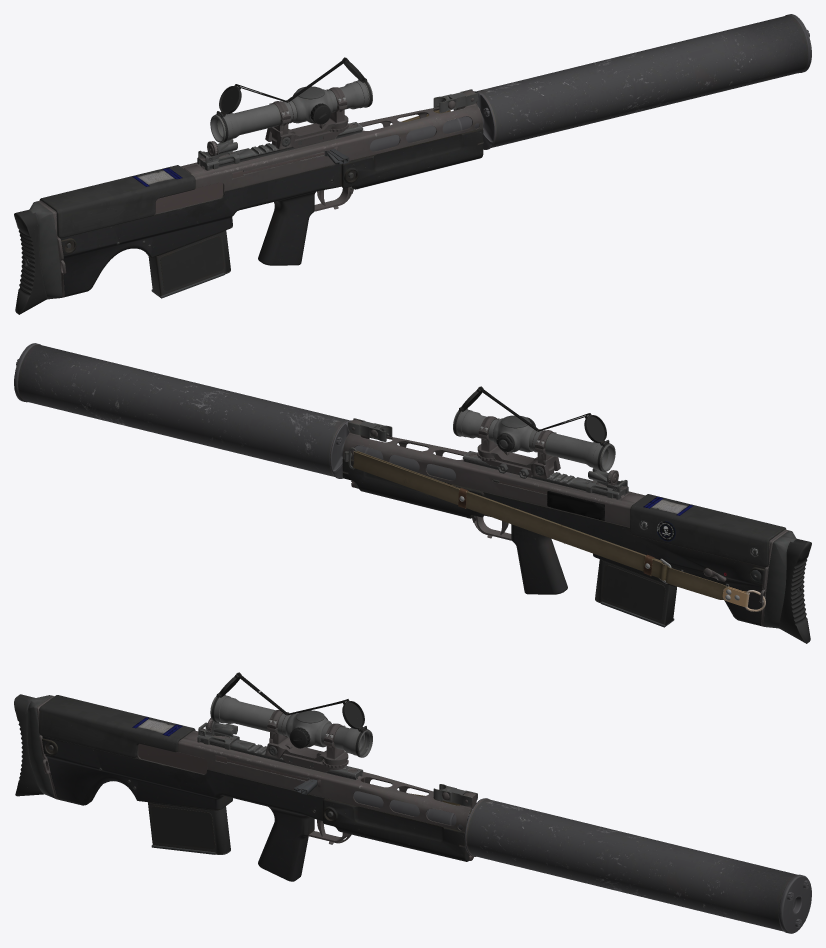
File: vssk.glb
3 renders of one model, top to bottom at view 1: azimuth 30°, elevation 25°; view 2: azimuth 150°, elevation 25°; view 3: azimuth 330°, elevation 25°, orthographic.
Parts seen in each view (by area): view 1: Object_3, Object_2, Object_11, Object_13, Object_7, Object_5, Object_10, Object_12; view 2: Object_3, Object_2, Object_11, Object_4, Object_13, Object_7, Object_5, Object_9, Object_12; view 3: Object_3, Object_2, Object_11, Object_13, Object_7, Object_5, Object_10, Object_12.
Part boxes in pixels (x1,y1,x2,y2): Object_3: (325,14,811,166); Object_2: (60,128,483,297); Object_11: (14,165,352,314); Object_13: (39,90,483,220); Object_7: (210,57,372,149); Object_5: (148,230,230,298); Object_10: (155,149,357,213); Object_12: (201,89,477,159); Object_3: (14,343,503,496); Object_2: (342,457,765,626); Object_11: (473,494,811,643); Object_4: (353,451,765,611); Object_13: (342,419,786,549); Object_7: (453,386,615,478); Object_5: (595,559,676,627); Object_9: (356,456,732,588); Object_12: (348,418,624,488); Object_3: (313,791,811,933); Object_2: (42,736,469,881); Object_11: (14,694,346,842); Object_13: (39,707,476,847); Object_7: (210,672,372,772); Object_5: (148,802,230,854); Object_10: (138,744,473,860); Object_12: (202,718,477,806).
Bounding box in the file's own units: 1.12 × 0.2619 × 0.0902.
10 materials, 9 textured.
